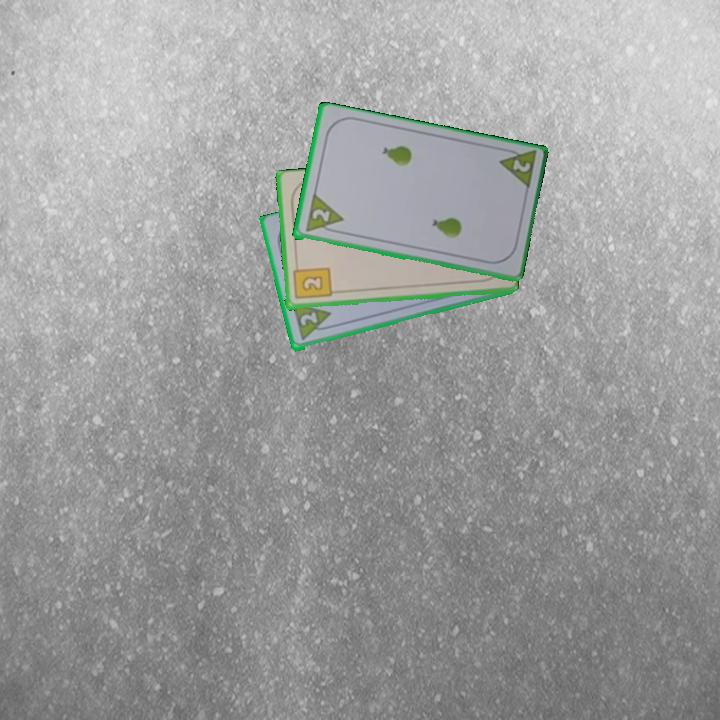2b: (290, 260, 333, 302)
2p: (289, 300, 336, 344), (308, 205, 333, 225), (509, 156, 533, 176)
